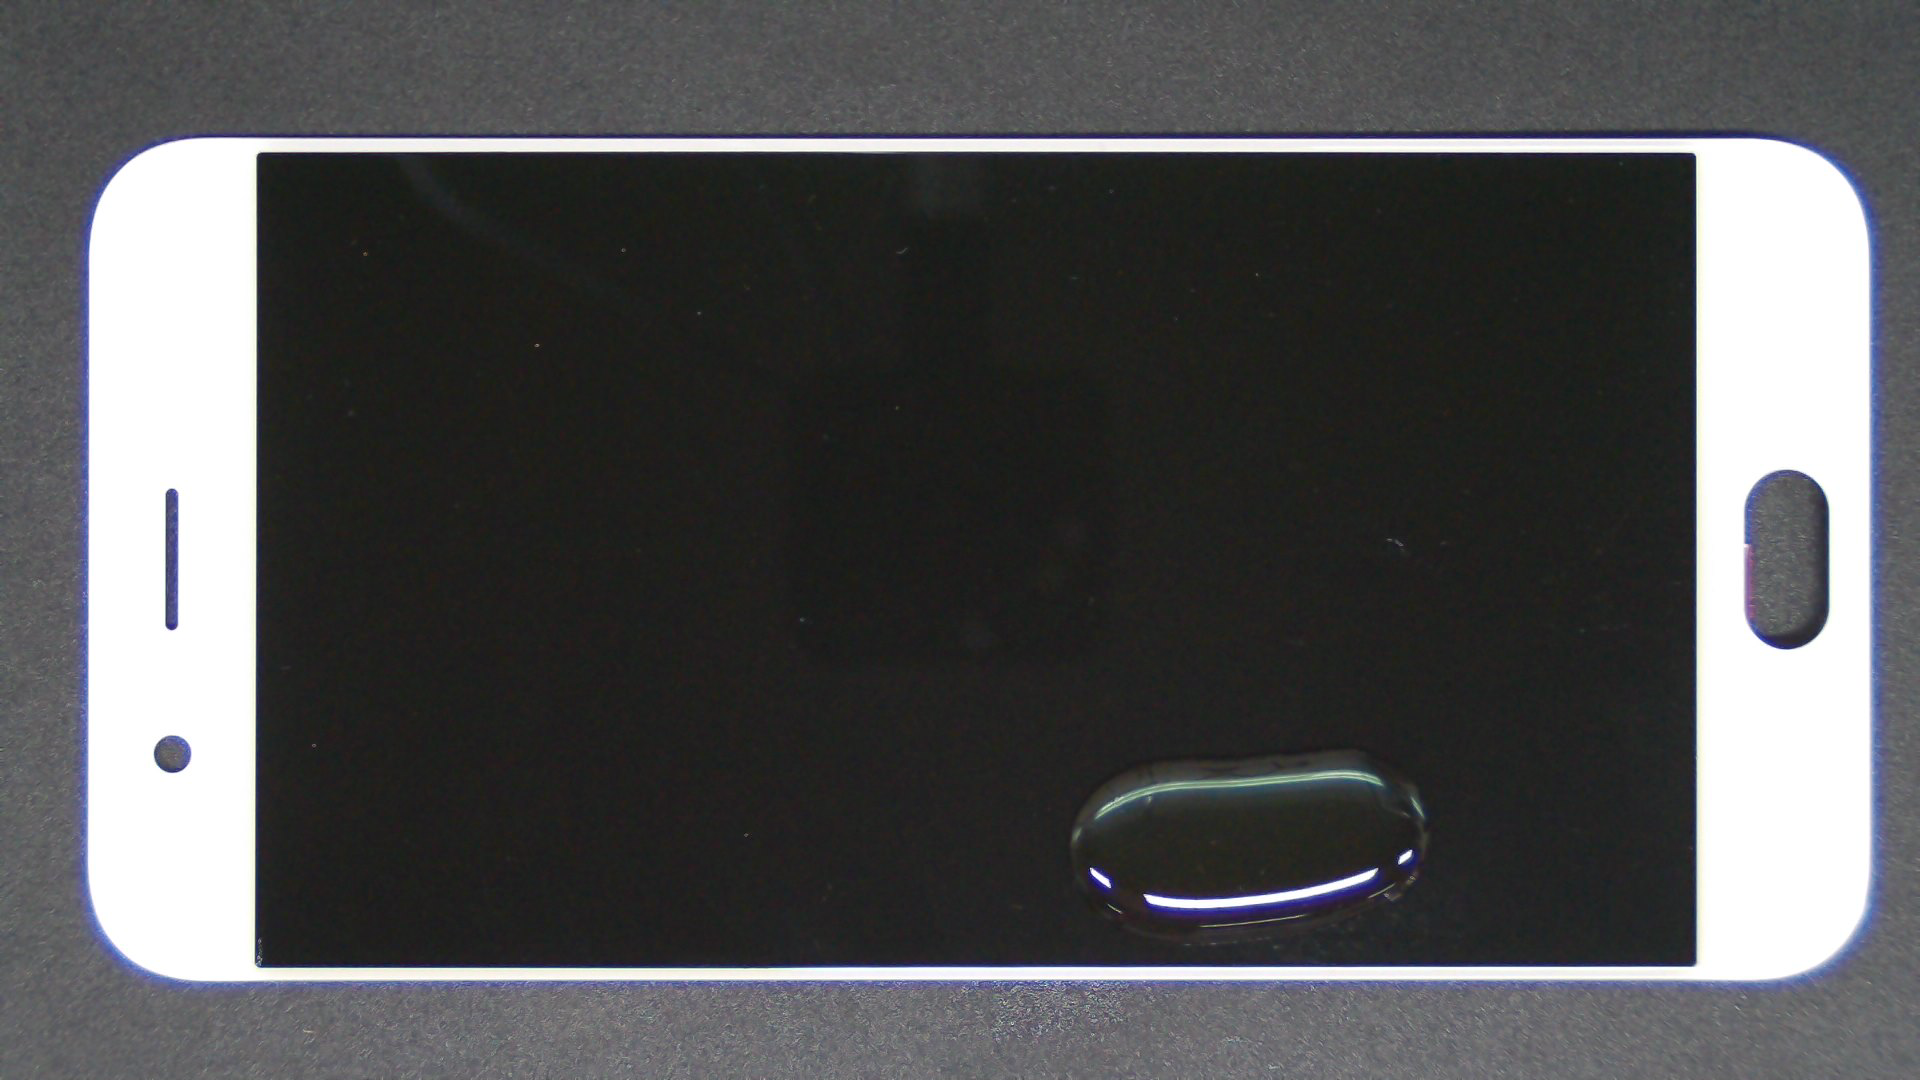defect: (1069, 746, 1429, 945)
